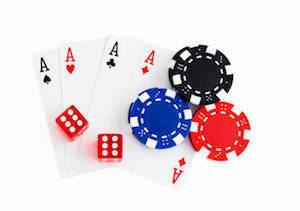AceOfClubs: (101, 34, 134, 115)
AceOfDiamonds: (136, 41, 203, 198)
AceOfHearts: (59, 42, 105, 151)
AceOfSpades: (30, 46, 62, 122)
